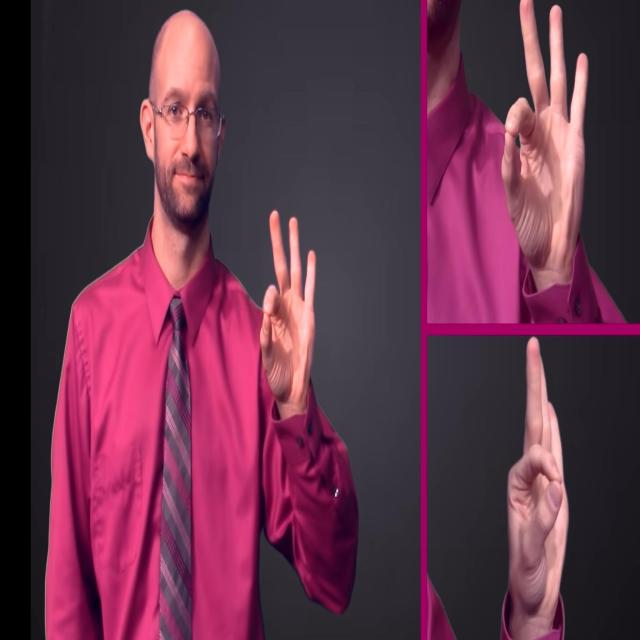F: (500, 1, 589, 276), (503, 336, 572, 626), (257, 208, 320, 406)
